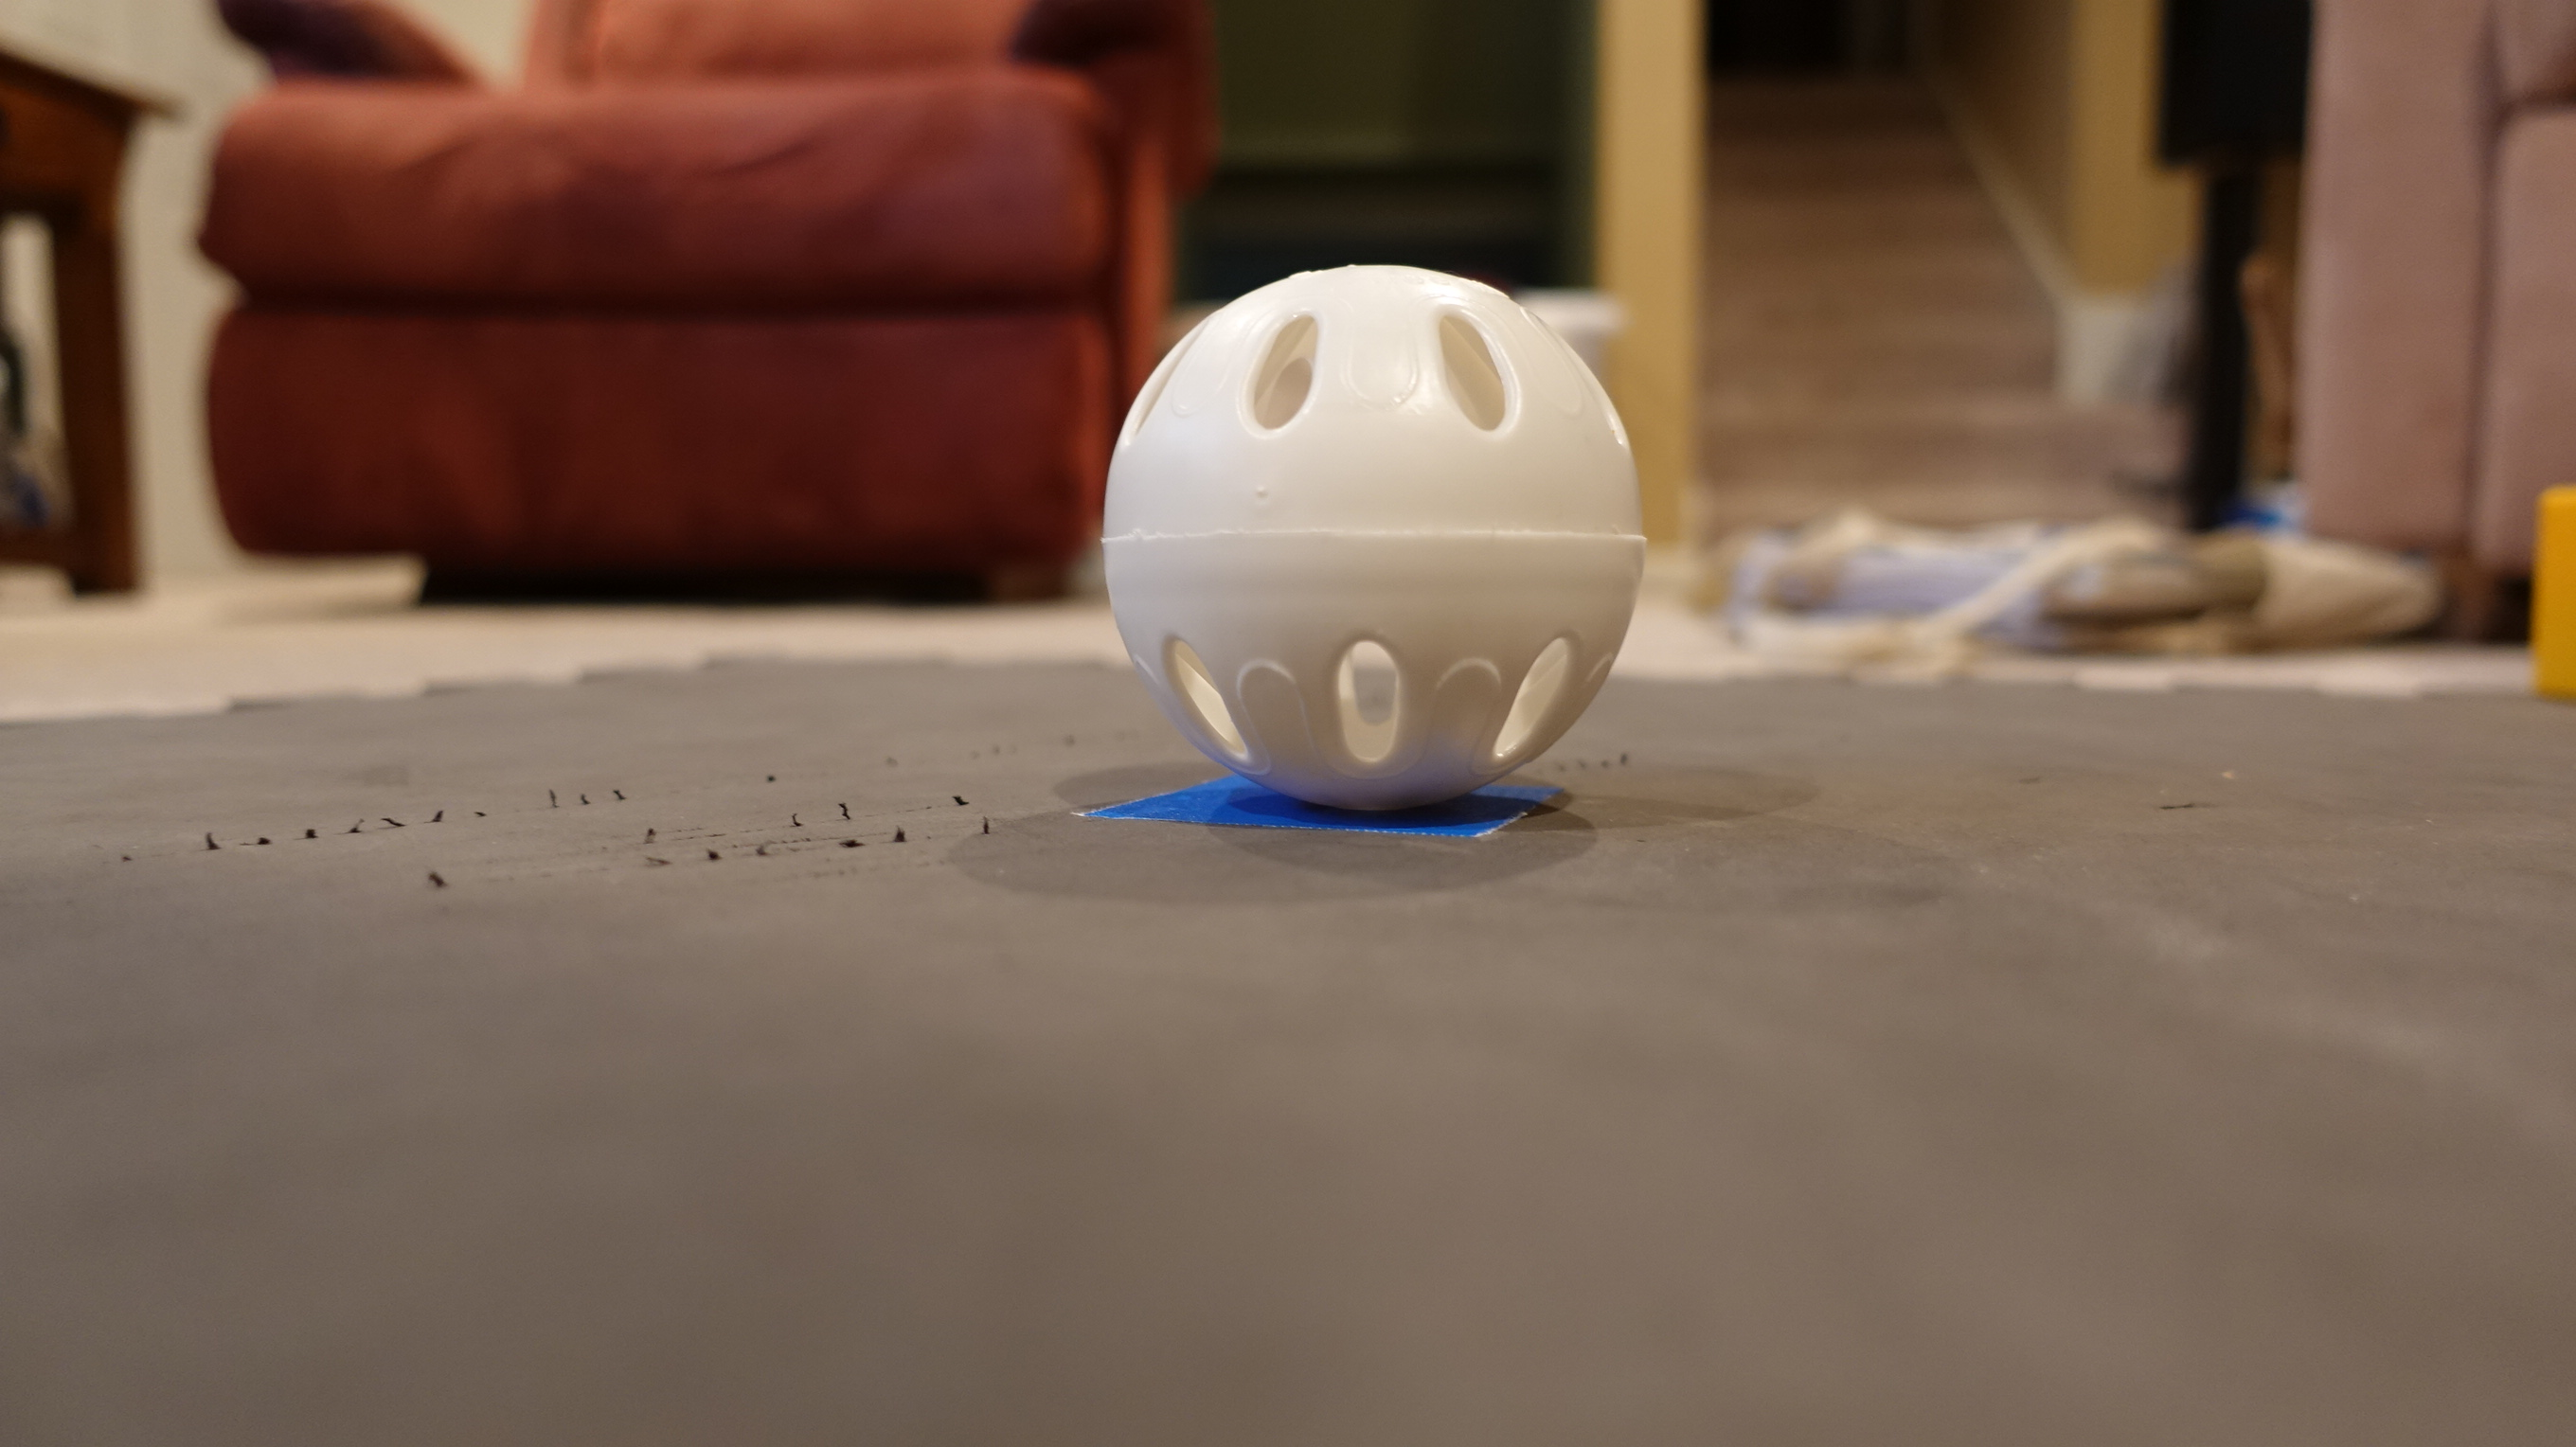silver: (1092, 264, 1649, 821)
